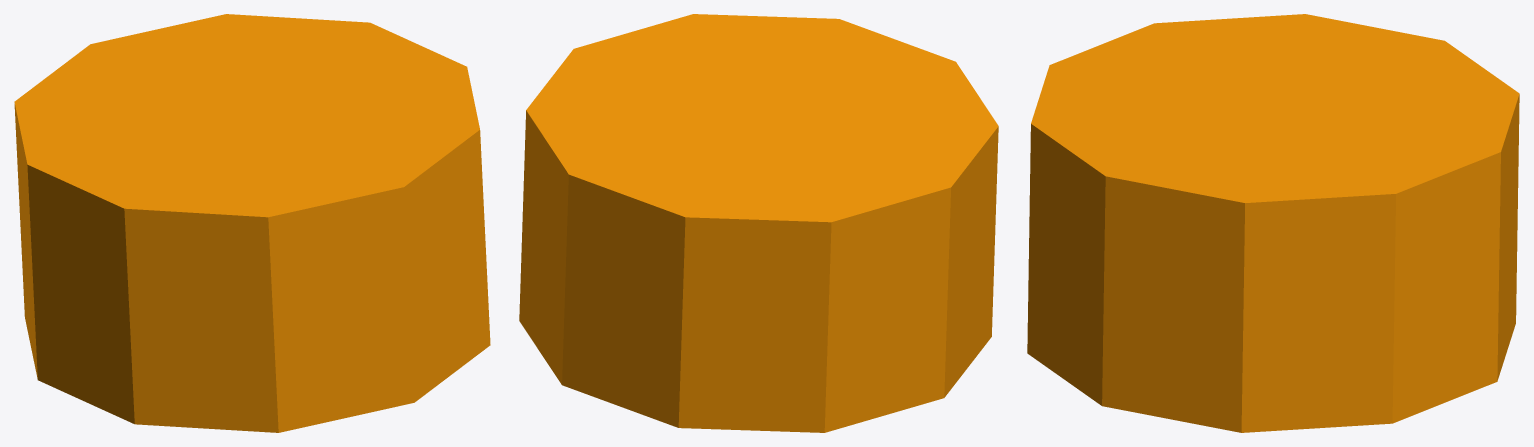
Rendered from group951691359_lev3.glb.
3 views of the same model, side by side, from view 1: azimuth 30°, elevation 25°; view 2: azimuth 150°, elevation 25°; view 3: azimuth 270°, elevation 25° (orthographic). The views are drawn at different scales.
Visible parts, largest first — view 1: group951691359_lev3; view 2: group951691359_lev3; view 3: group951691359_lev3.
Part boxes in pixels (<box>): group951691359_lev3: <box>14,14,490,432</box>; group951691359_lev3: <box>519,14,998,432</box>; group951691359_lev3: <box>1027,14,1519,432</box>.
Size of the model in its own units: 0.5564 by 0.2983 by 0.5432.
